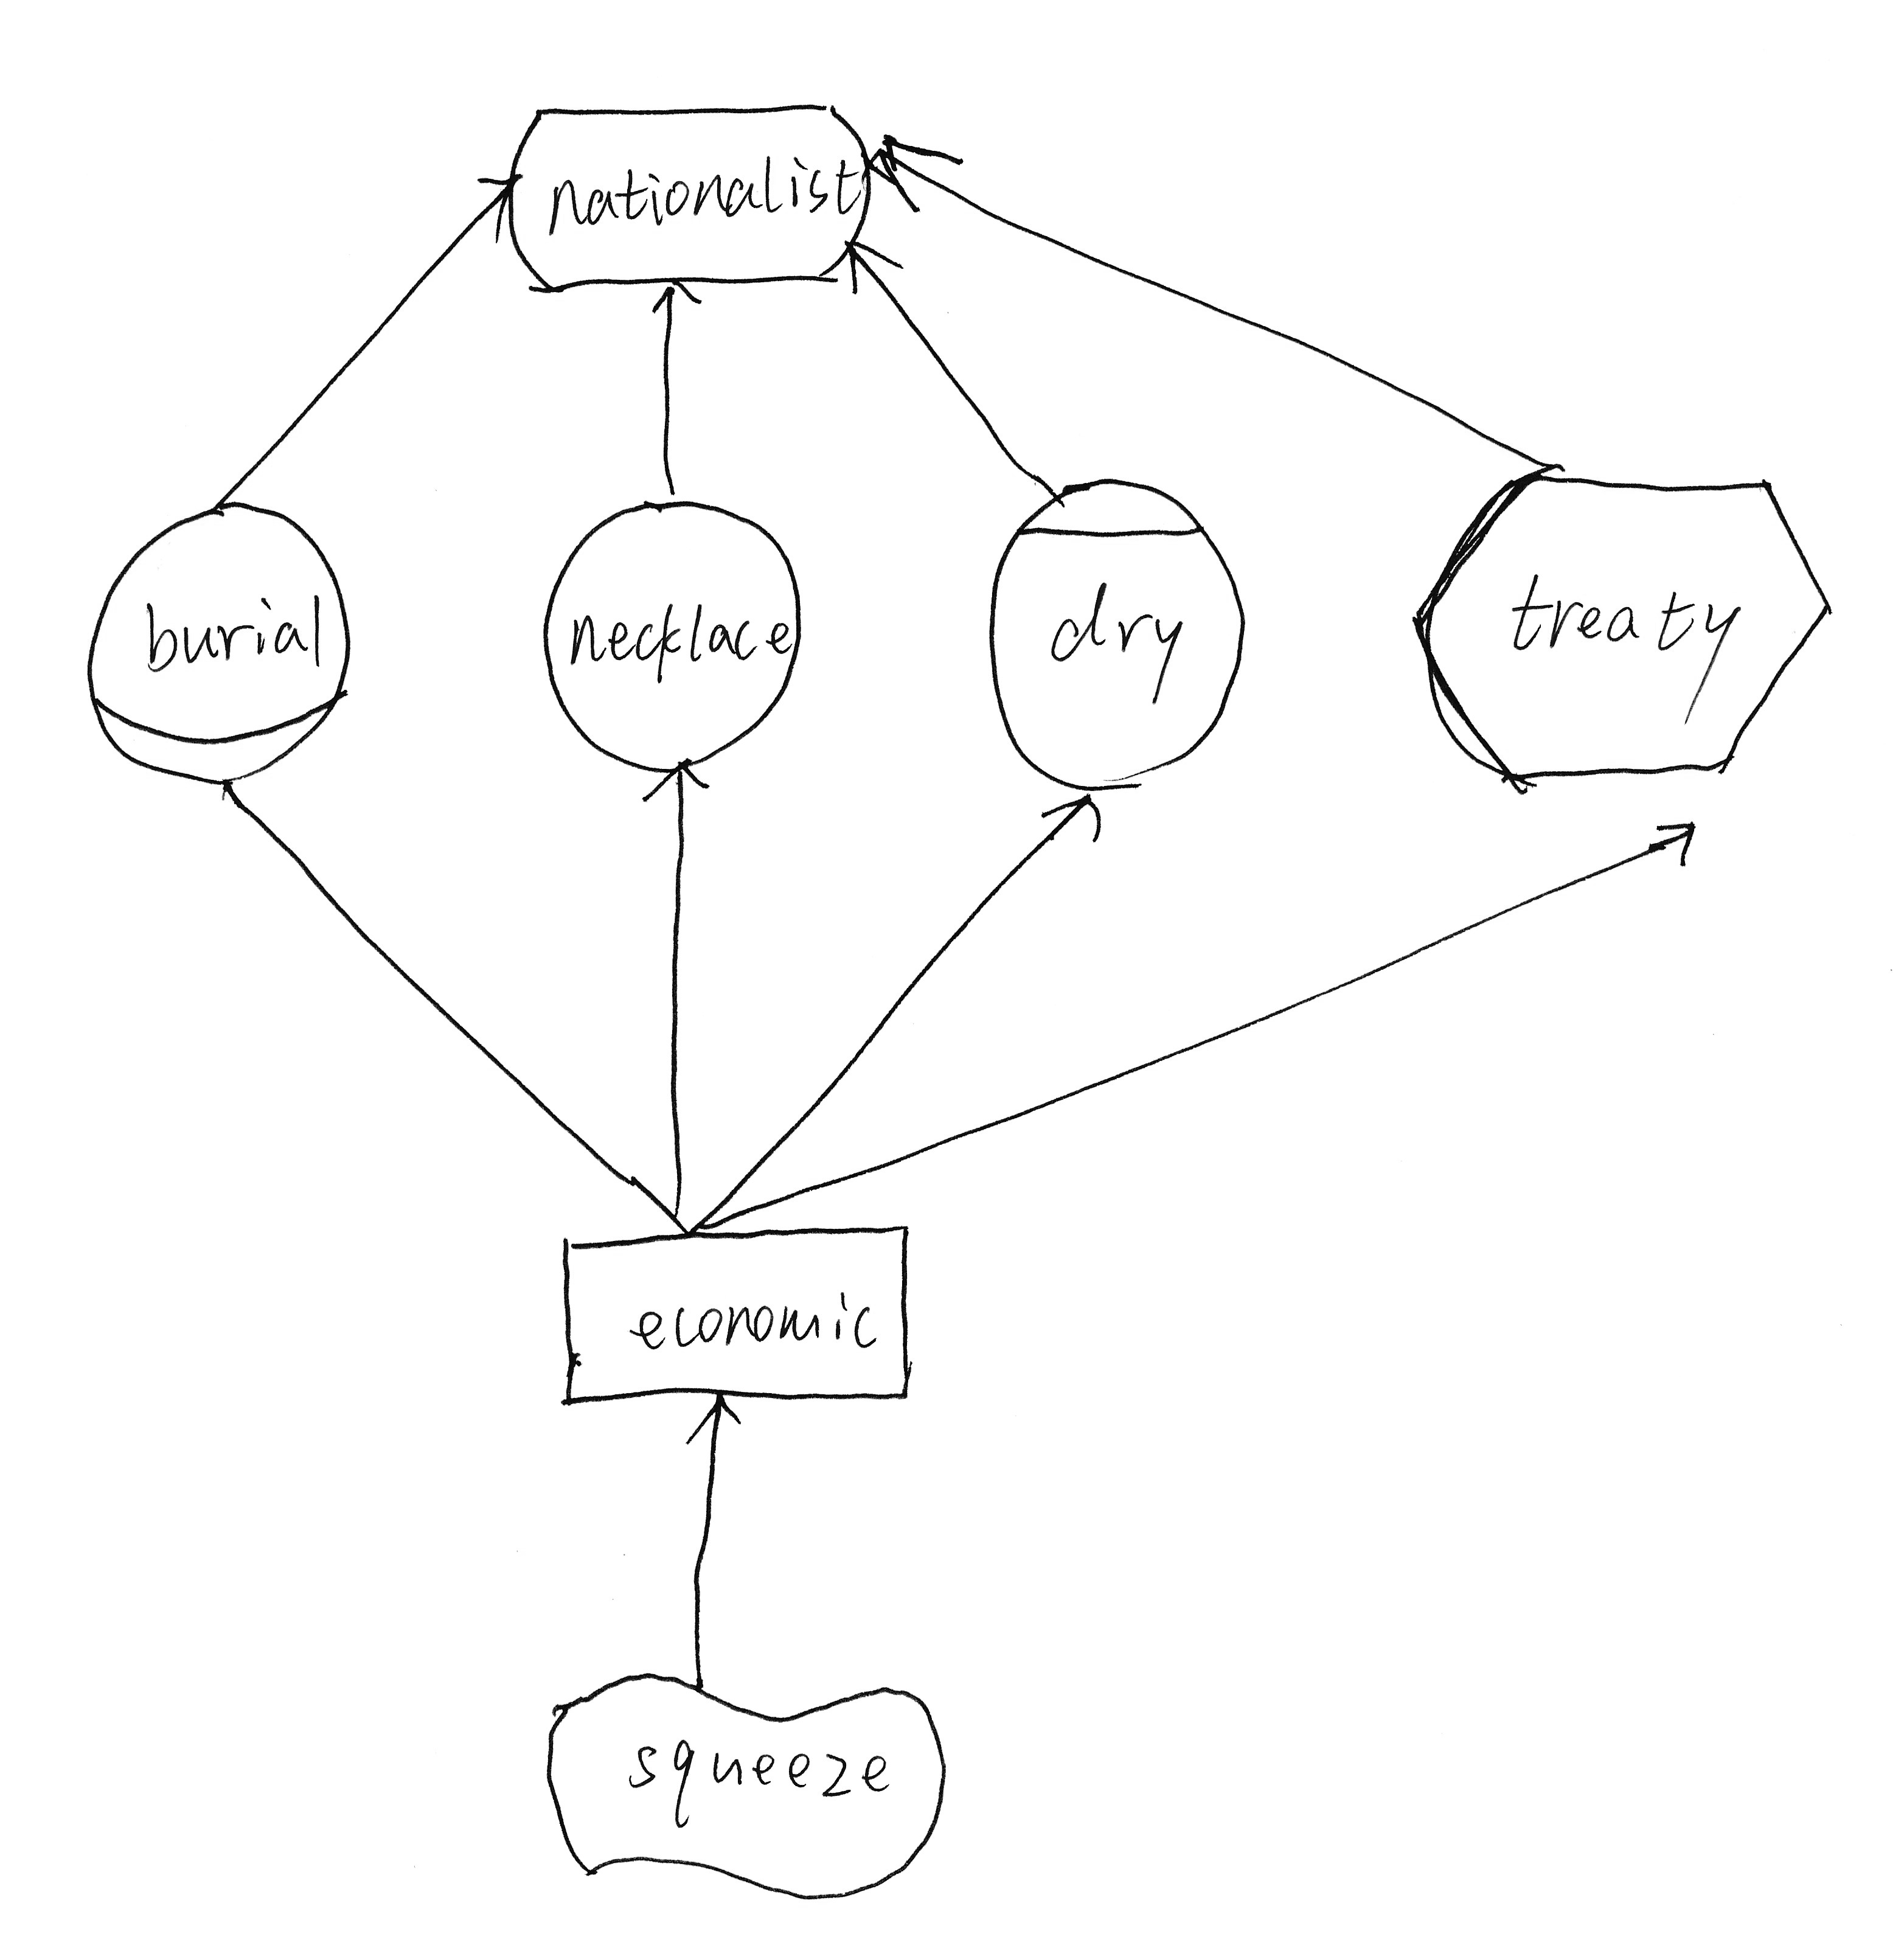actor: (521, 478, 819, 790)
agent: (969, 460, 1261, 816)
arrow: (863, 119, 982, 230), (1023, 781, 1126, 856), (830, 230, 912, 317), (675, 1388, 769, 1461), (462, 159, 532, 251), (621, 274, 722, 333), (1644, 804, 1717, 875), (640, 755, 717, 816)
goal: (495, 85, 881, 314)
quality: (516, 1656, 957, 1913)
resource: (532, 1203, 933, 1428)
role: (65, 481, 377, 809)
task: (1404, 446, 1860, 802)
